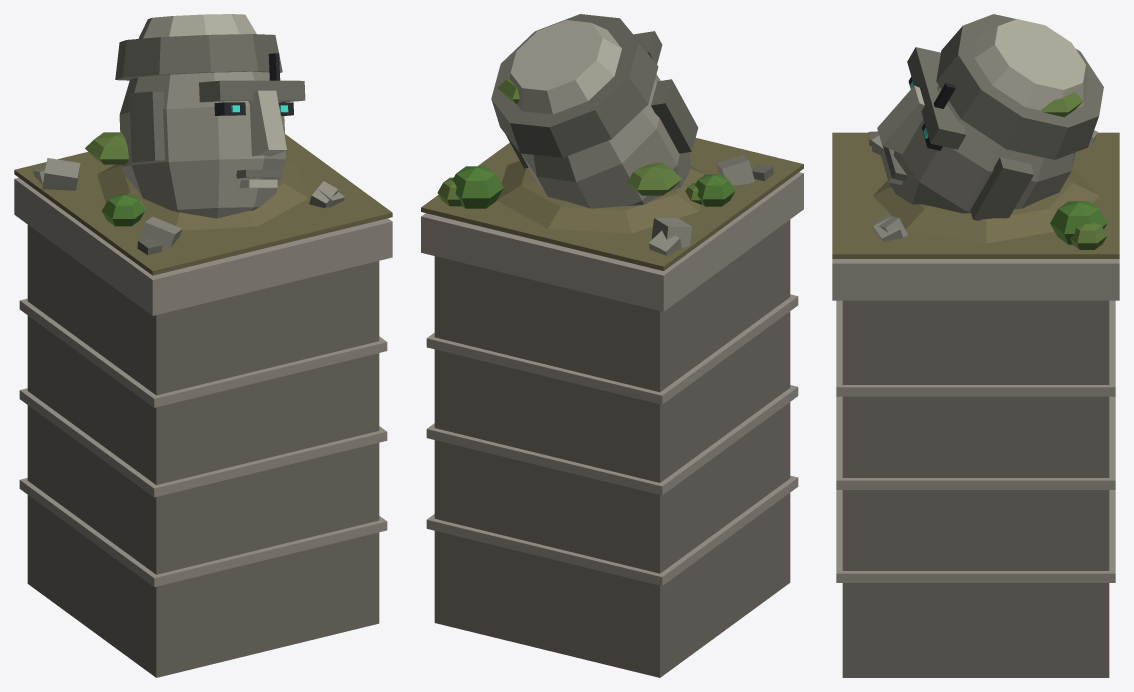
The model's file is decor_stone_head.glb.
The picture shows the model from 3 angles, left to right: view 1: azimuth 30°, elevation 25°; view 2: azimuth 150°, elevation 25°; view 3: azimuth 270°, elevation 25°; orthographic projection. The views are drawn at different scales.
Visible parts, largest first — view 1: decor_stone_head; view 2: decor_stone_head; view 3: decor_stone_head.
Boxes of the visible parts, <box> form: decor_stone_head: <box>14,14,392,677</box>; decor_stone_head: <box>421,14,803,677</box>; decor_stone_head: <box>832,14,1119,677</box>.
Bounding box in the file's own units: 2.8 × 6.46 × 2.8.
